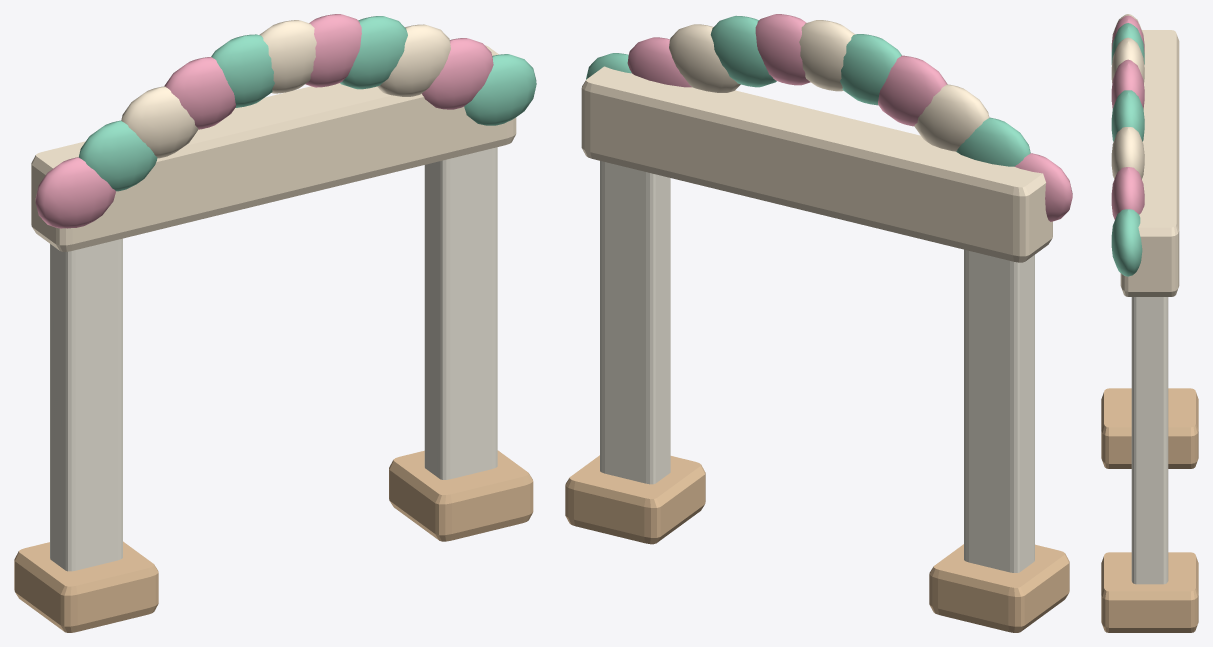
Rendered from wedding_arch.glb.
3 renders of one model, left to right at view 1: azimuth 30°, elevation 25°; view 2: azimuth 150°, elevation 25°; view 3: azimuth 270°, elevation 25°, orthographic. The views are drawn at different scales.
Visible parts, largest first — view 1: model, header; view 2: model, header; view 3: model, header.
Boxes of the visible parts, x1=… form: model: x1=14, y1=14, x2=536, y2=632; header: x1=31, y1=45, x2=516, y2=251; model: x1=565, y1=14, x2=1072, y2=632; header: x1=581, y1=66, x2=1052, y2=262; model: x1=1101, y1=14, x2=1198, y2=632; header: x1=1120, y1=30, x2=1179, y2=296.
Bounding box in the file's own units: 2.4 × 2.5 × 0.45.
